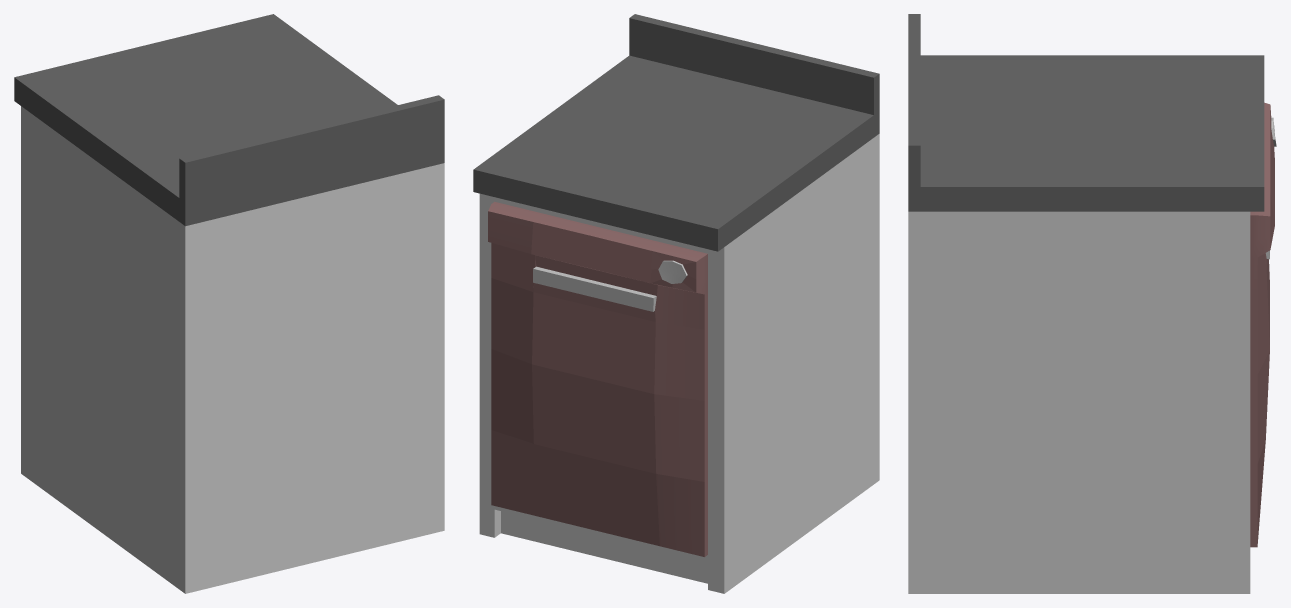
The model's file is Dishwasher01.fbx.
The picture shows the model from 3 angles, left to right: view 1: azimuth 30°, elevation 25°; view 2: azimuth 150°, elevation 25°; view 3: azimuth 270°, elevation 25°; orthographic projection. The views are drawn at different scales.
Parts seen in each view (by area): view 1: polySurface8; view 2: polySurface8; view 3: polySurface8.
Boxes of the visible parts, <box> form: polySurface8: <box>14,14,444,593</box>; polySurface8: <box>473,14,879,593</box>; polySurface8: <box>908,14,1276,593</box>.
Bounding box in the file's own units: 59.82 × 95.02 × 70.75.
